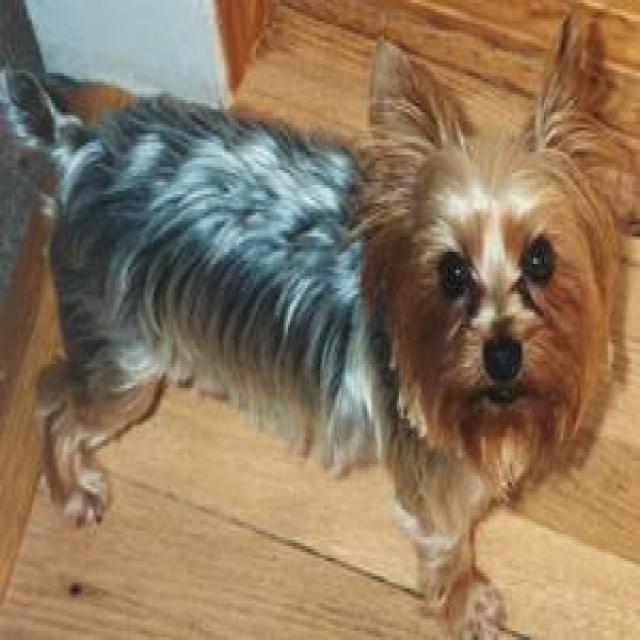dog-yorkshire_terrier: (4, 30, 627, 634)
